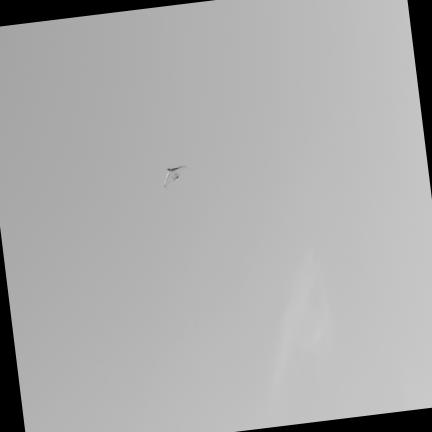Shahed: (164, 165, 185, 185)
